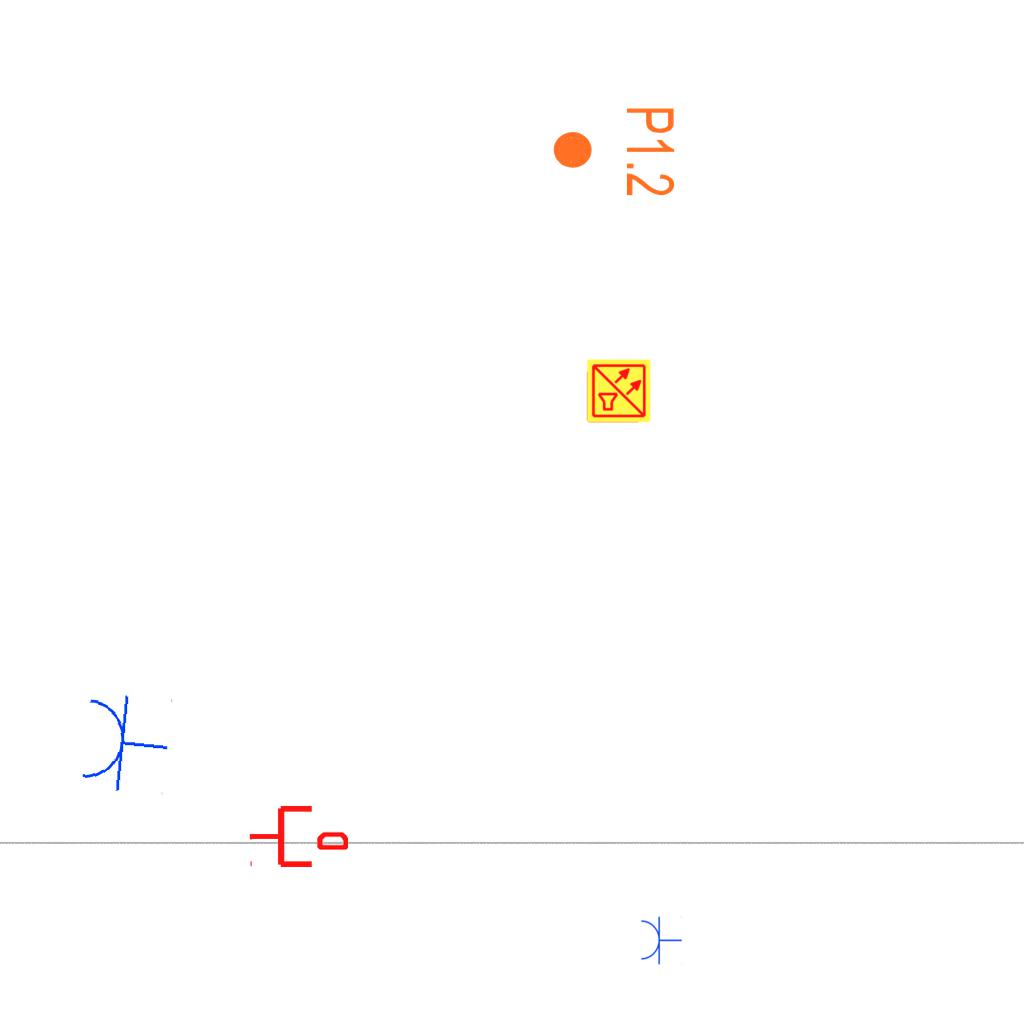Datenanschluss_einfach: (248, 802, 348, 871)
Downlight_LED_Einbauleuchten_Flur: (550, 105, 678, 198)
OKW_Multisensormelder_(Kombination_optischer_Rauch-Kahlenmonoxid_Waerme-Melder): (586, 358, 652, 424)
Schukosteckdose_einfach: (76, 688, 174, 797), (639, 915, 682, 965)
